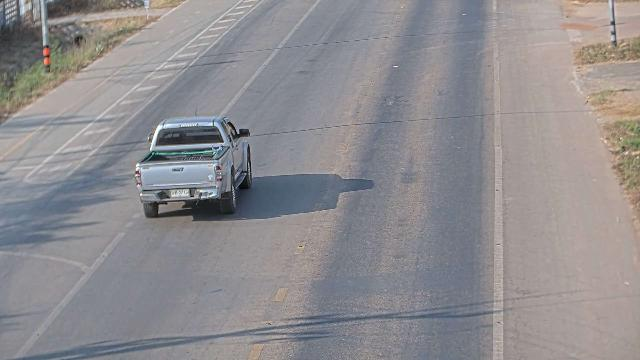pickup-truck: (134, 113, 253, 218)
